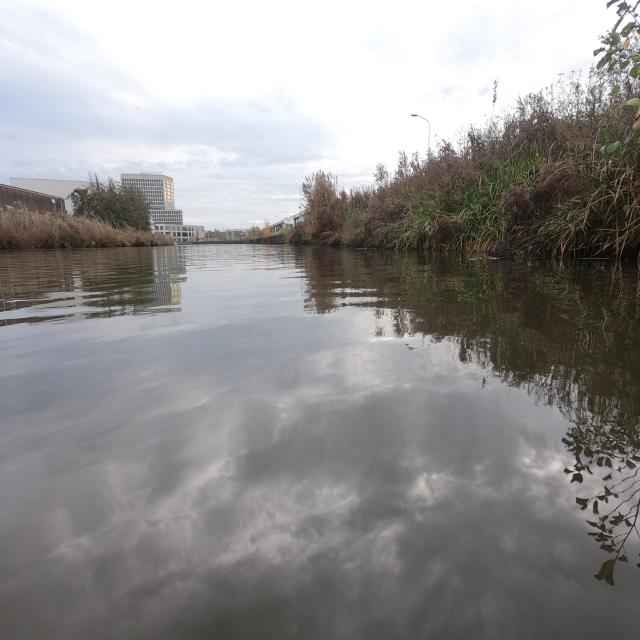reed: (298, 99, 640, 257), (1, 203, 170, 249)
sky: (2, 2, 616, 227)
water: (1, 241, 639, 639)
